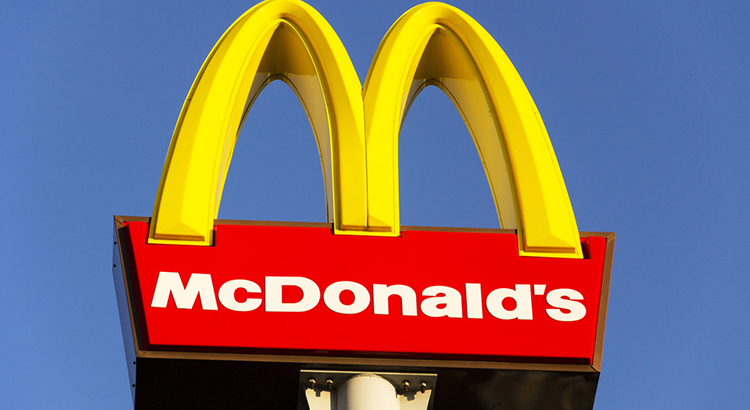mcdonalds: (143, 0, 587, 259)
